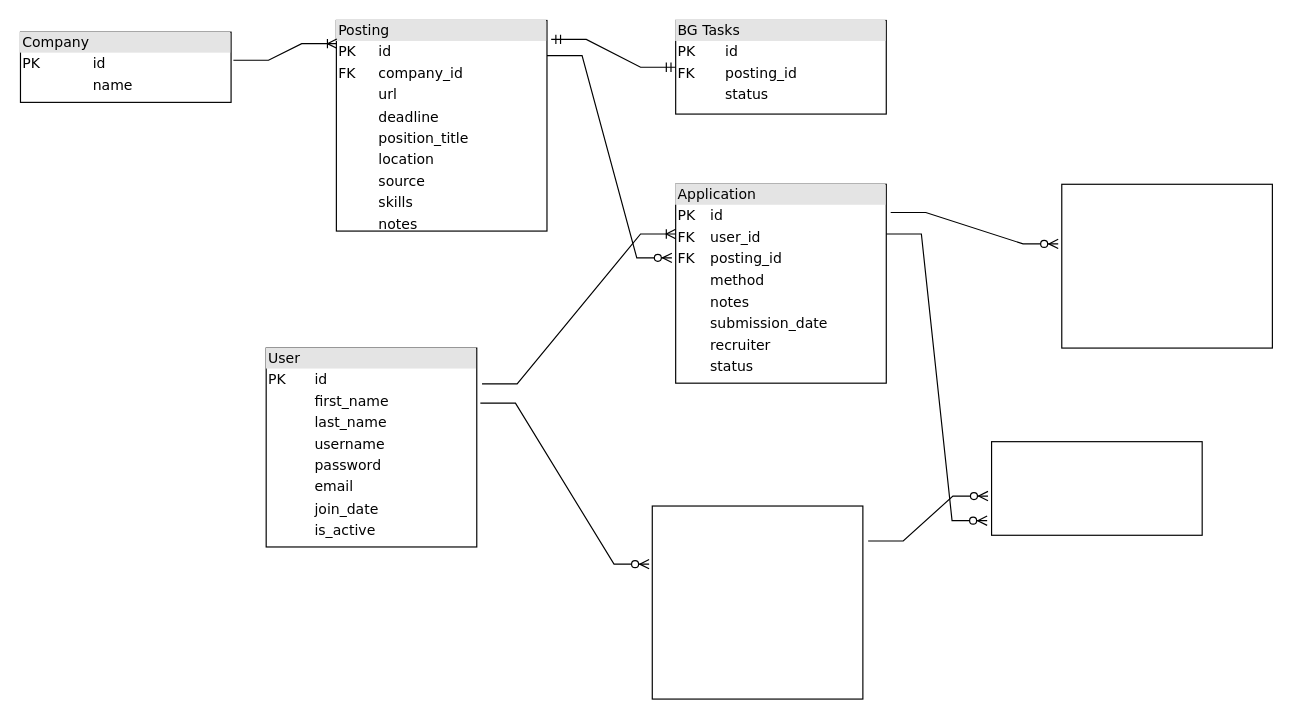
Some shapes in this 1293 by 720 pixel diagram are drawn without their labels. The shapes that lost their labels are listed below. From the top down, each one's centre as x and y in pixels, then its label:
At pixel 1166 265: "Interview PK id FK application_id scheduled_date status type notes".
At pixel 1096 488: "Applied Files PK id FK file_id FK application_id".
At pixel 757 602: "Files PK id FK user_id type name path notes is_active upload_date".
